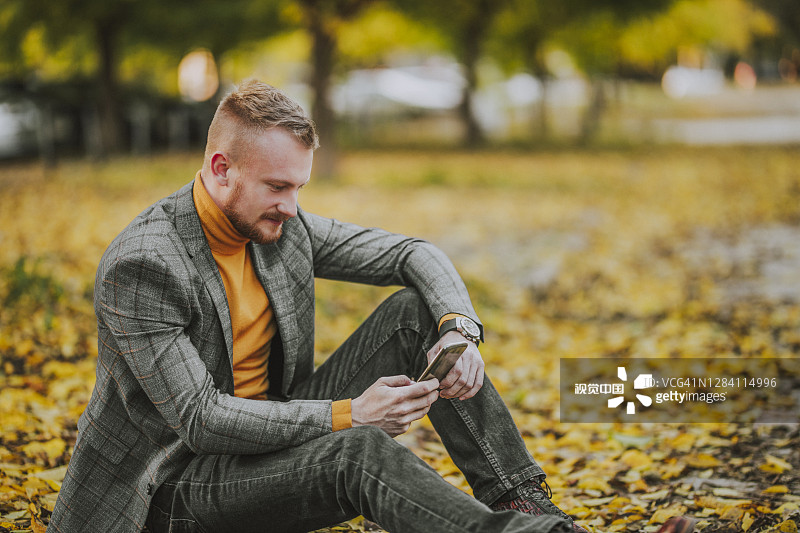reading: (346, 326, 499, 450)
